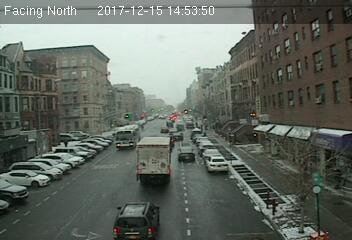bus: (115, 125, 140, 148)
car: (114, 202, 159, 240), (206, 155, 228, 173), (177, 146, 195, 161)
truck: (135, 137, 170, 184)
